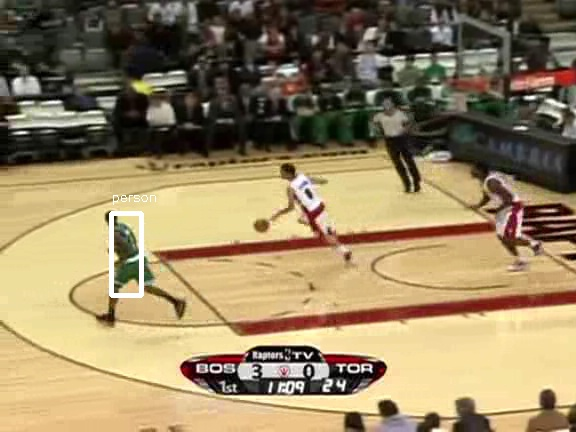person: (112, 217, 146, 298), (111, 217, 145, 298), (113, 217, 147, 298), (112, 216, 146, 297), (112, 218, 146, 299)
target_negative: (343, 81, 555, 418), (168, 235, 506, 330), (225, 334, 564, 381), (396, 183, 484, 332), (317, 393, 477, 427), (464, 374, 564, 413)
